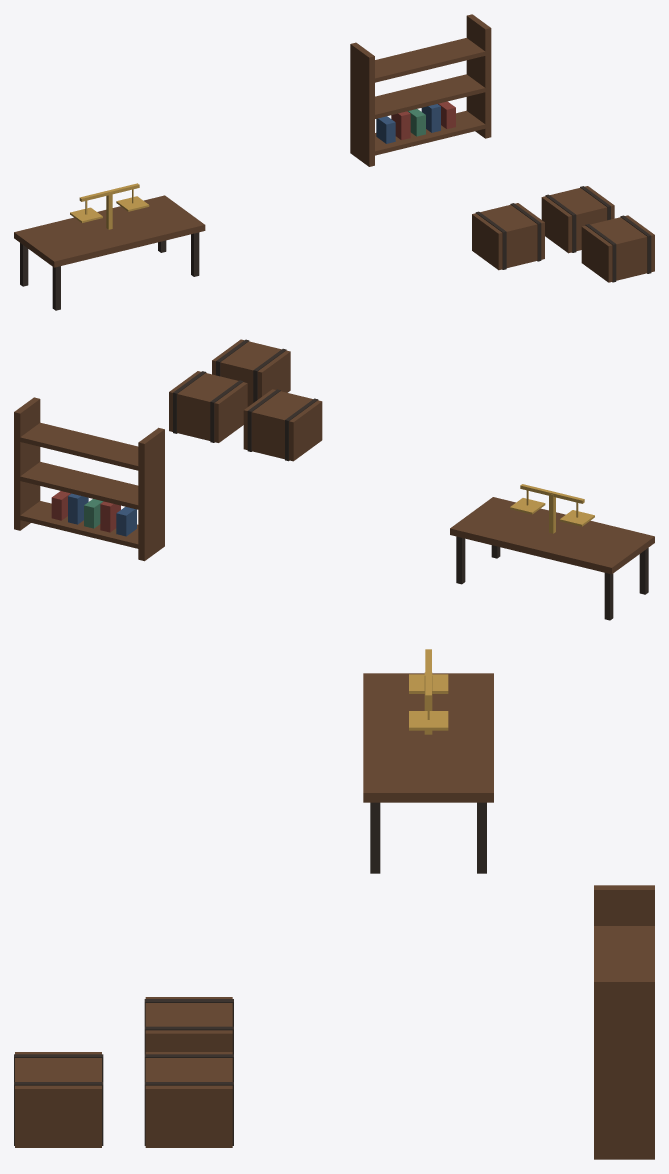
Rendered from exchange_office.glb.
3 views of the same model, one above another, from view 1: azimuth 30°, elevation 25°; view 2: azimuth 150°, elevation 25°; view 3: azimuth 270°, elevation 25° (orthographic). The views are drawn at different scales.
Parts seen in each view (by area): view 1: exchange_office; view 2: exchange_office; view 3: exchange_office.
Part boxes in pixels (x1,y1,x2,y2): exchange_office: [14, 14, 654, 310]; exchange_office: [14, 339, 654, 620]; exchange_office: [14, 649, 654, 1159].
Bounding box in the file's own units: 43.75 × 9.05 × 29.45.
